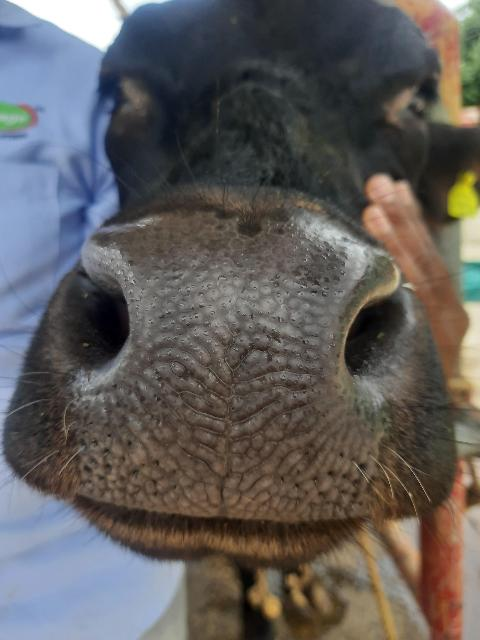Muzzle: (121, 227, 338, 506)
